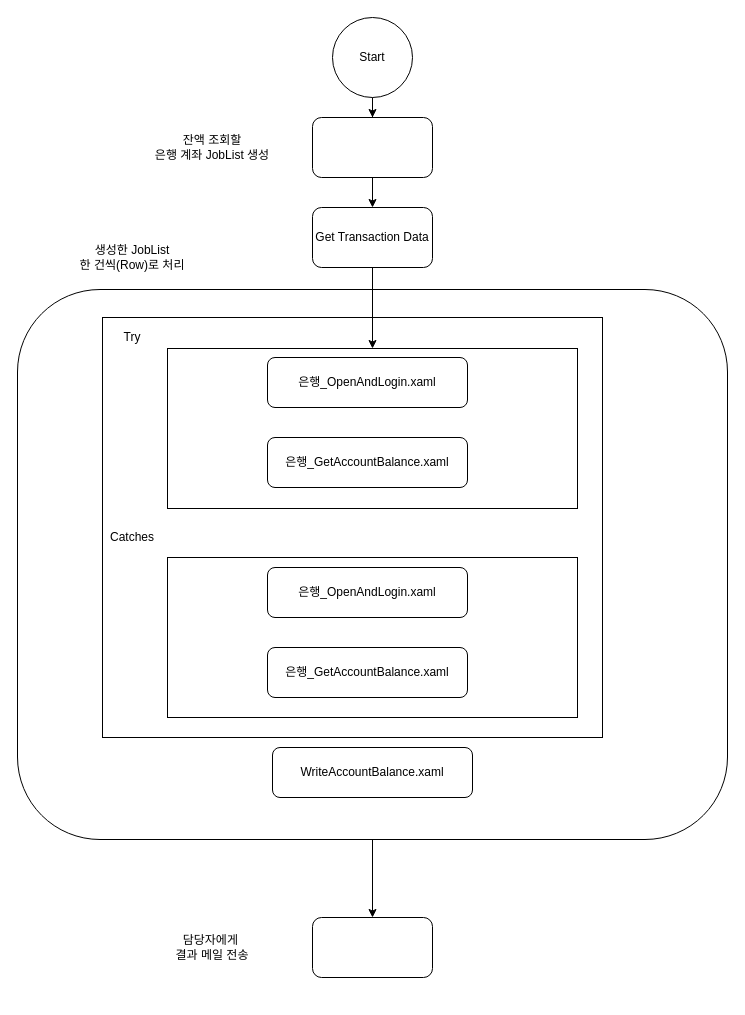
Image size: 745x1015. Some labels were removed from this diagram. Here are the shapes that lost their labels. From the top down, the box of each, then its label:
(312, 116, 432, 178): Init (초기설정)
(312, 916, 432, 978): End Process
